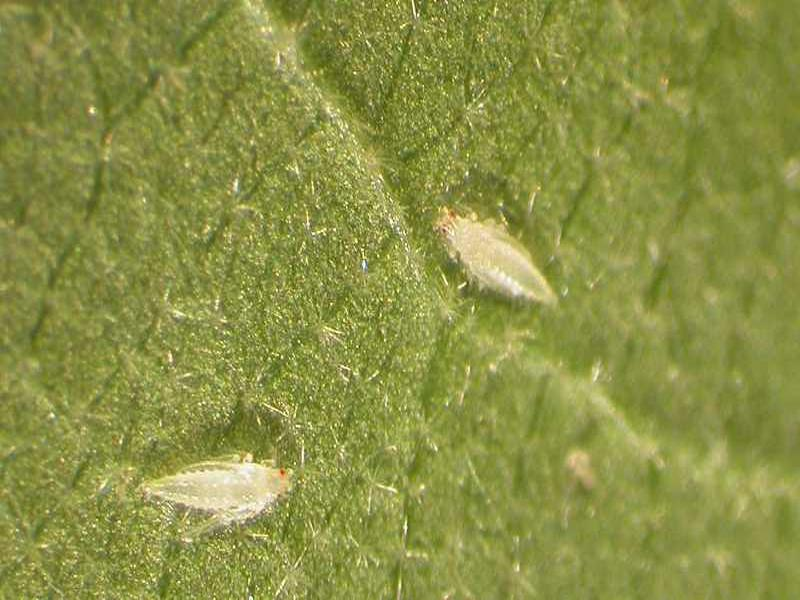Thrips: (114, 442, 326, 559), (435, 194, 575, 336)
